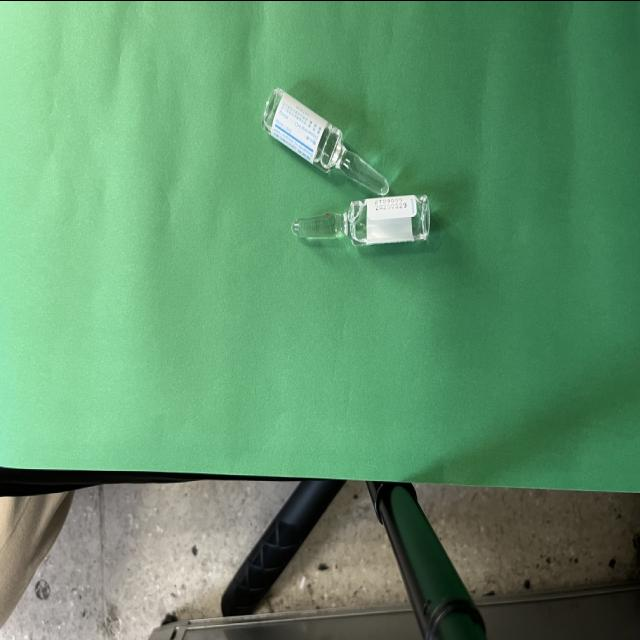Ampoules: (262, 87, 390, 195), (292, 193, 431, 245)
